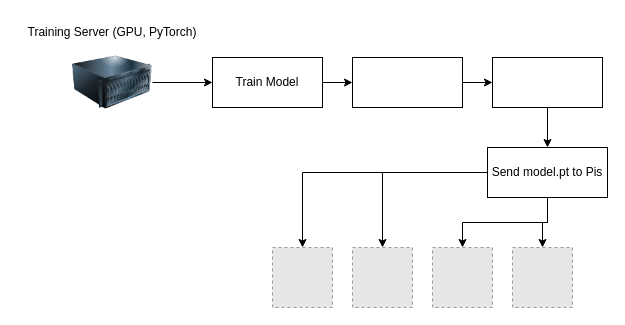
The diagram is 625 pixels wide and 325 high, and some of its shapes have lost their labels. Grey dashed boxes stand in for pictures. Here are the shapes that lost their labels. From the top down, the centre of each, then its label:
At pixel 407 82: "Convert Model to TorchScript".
At pixel 547 82: "Save model.pt".
